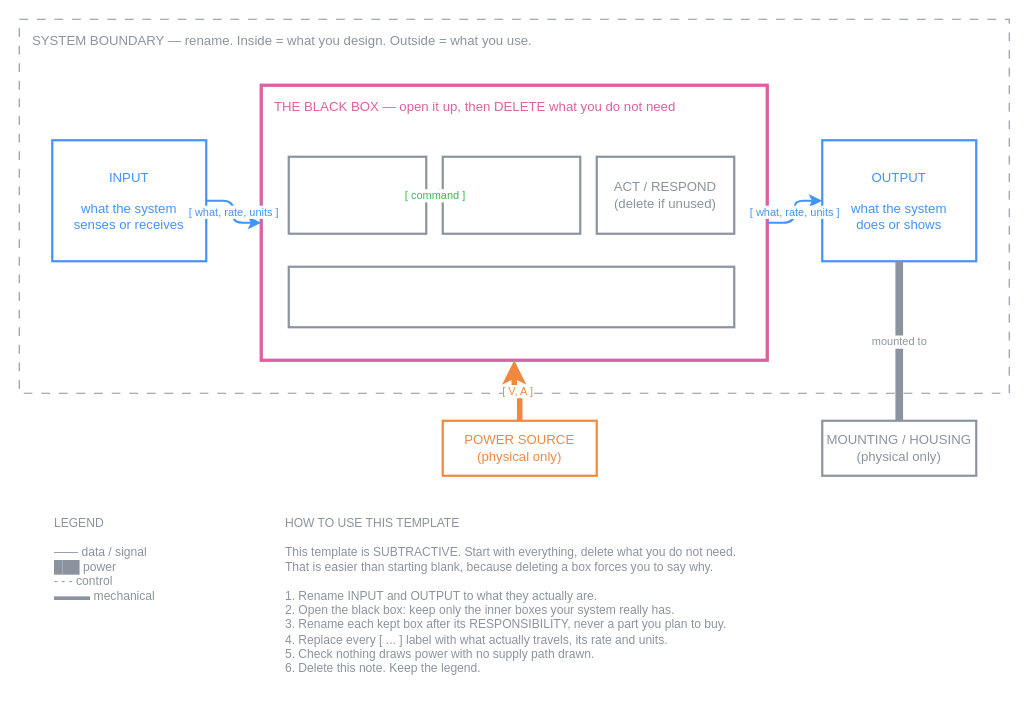
This 1029x726 diagram has some shape labels left out. The centre of each missing label's shape, as x and y in pixels:
DECIDE / COMPUTE (delete if unused): the point at 511,194
INGEST / SENSE (delete if unused): the point at 357,194
STORE / LOG (delete if unused): the point at 511,296
